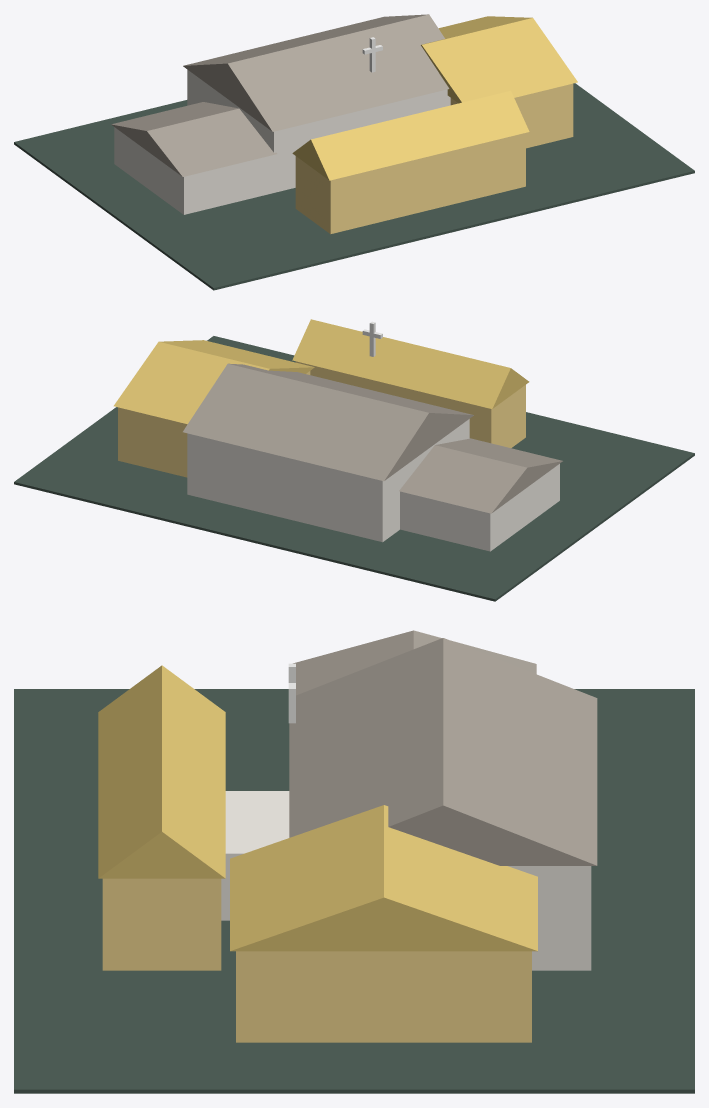
Rendered from sanctuary-expansion.glb.
The picture shows the model from 3 angles, top to bottom: view 1: azimuth 30°, elevation 25°; view 2: azimuth 150°, elevation 25°; view 3: azimuth 270°, elevation 25°; orthographic projection. The views are drawn at different scales.
Visible parts, largest first — view 1: Grounds, Existing roof, Proposed expansion roof, Proposed expansion, Existing building; view 2: Grounds, Existing roof, Existing building, Proposed expansion roof, Proposed expansion; view 3: Grounds, Proposed expansion roof, Existing roof, Proposed expansion, Existing building.
Boxes of the visible parts, x1,y1,x2,y2 form: Grounds: [14, 83, 694, 290]; Existing roof: [111, 14, 449, 176]; Proposed expansion roof: [292, 16, 577, 180]; Proposed expansion: [295, 83, 573, 234]; Existing building: [114, 69, 450, 214]; Grounds: [14, 336, 694, 601]; Existing roof: [183, 363, 562, 513]; Existing building: [187, 419, 559, 551]; Proposed expansion roof: [113, 319, 529, 424]; Proposed expansion: [118, 361, 525, 477]; Grounds: [14, 689, 694, 1093]; Proposed expansion roof: [98, 665, 537, 951]; Existing roof: [289, 630, 597, 865]; Proposed expansion: [102, 878, 531, 1042]; Existing building: [221, 791, 591, 970].
Bounding box in the file's own units: 64 × 17 × 46.
